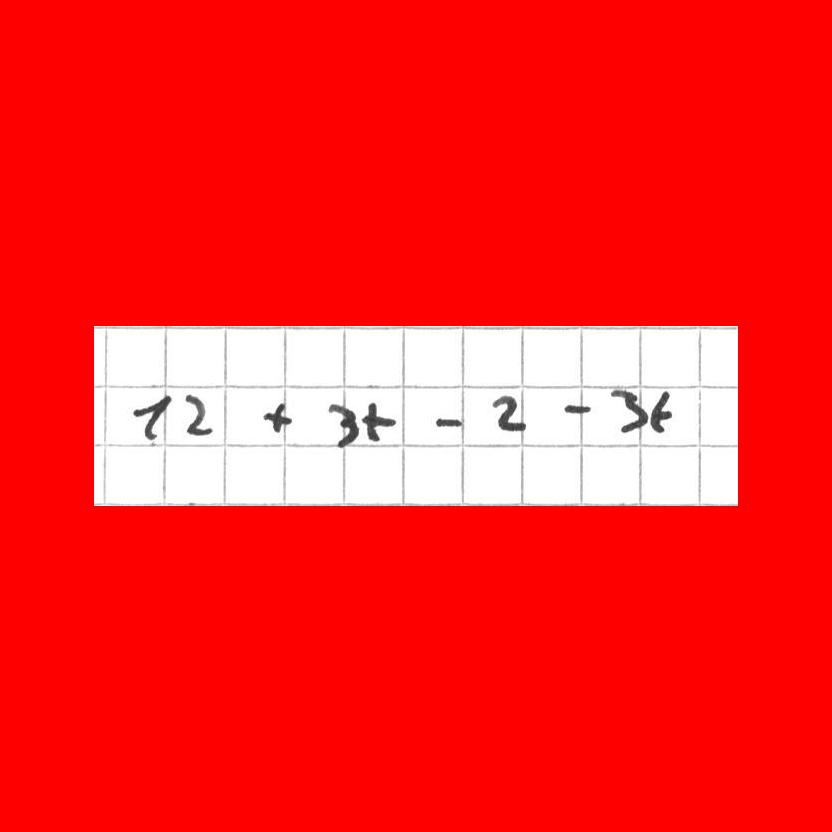Char: (130, 392, 172, 442), (609, 386, 650, 435), (487, 393, 530, 434), (360, 397, 398, 443), (326, 402, 360, 449), (260, 399, 302, 437), (181, 393, 214, 437), (650, 388, 675, 435), (559, 399, 596, 417), (432, 412, 468, 429)
